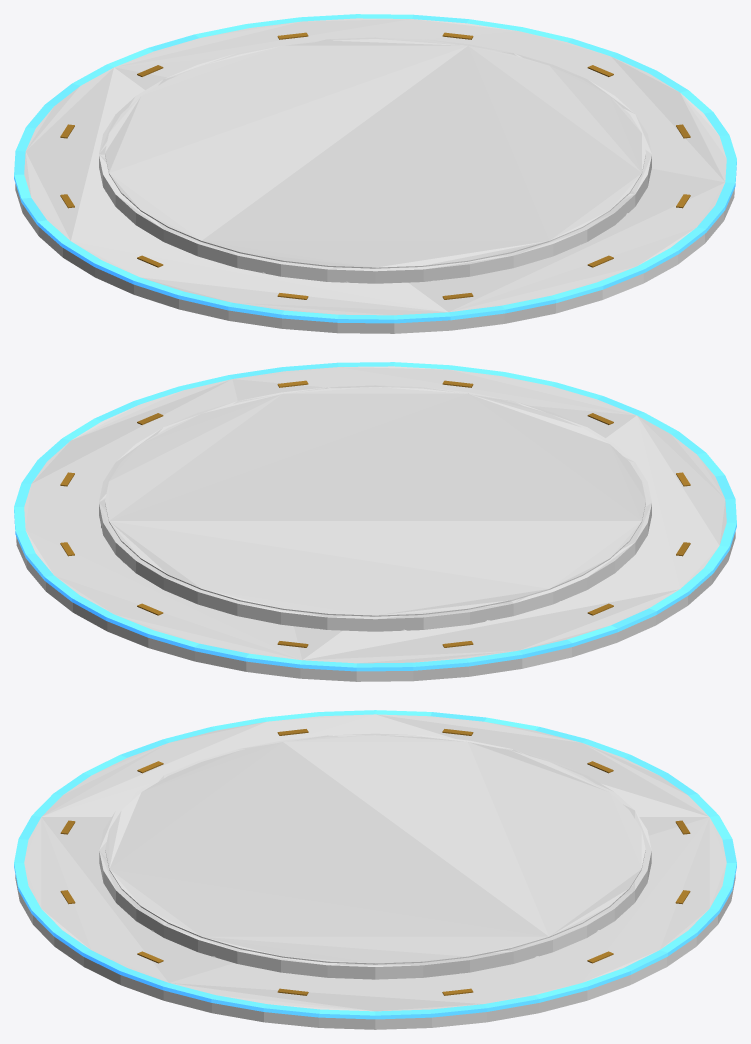
Rendered from Platform_Dais_6m.fbx.
3 renders of one model, top to bottom at view 1: azimuth 30°, elevation 25°; view 2: azimuth 150°, elevation 25°; view 3: azimuth 270°, elevation 25°, orthographic.
Parts seen in each view (by area): view 1: Platform_Dais_6m; view 2: Platform_Dais_6m; view 3: Platform_Dais_6m.
Boxes of the visible parts, x1,y1,x2,y2 form: Platform_Dais_6m: (14, 14, 736, 333); Platform_Dais_6m: (14, 362, 736, 681); Platform_Dais_6m: (14, 710, 736, 1029).
Size of the model in its own units: 12.04 by 0.52 by 12.04.
